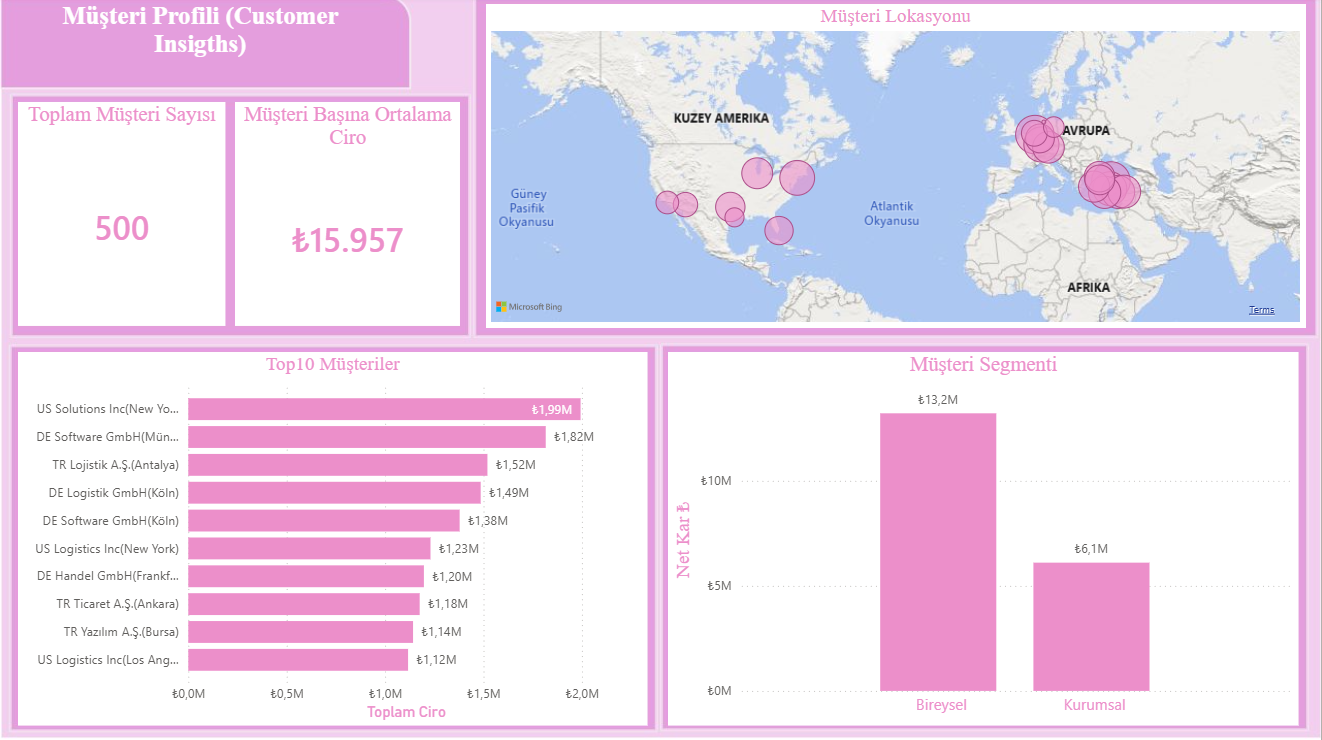

Layout of this report page (visuals, bound fields, positions):
{"tool":"powerbi","page":{"name":"Müşteri Profili (Customer Insights)","canvas":[1280,720],"ordinal":2},"visuals":[{"type":"textbox","box":[8.5,0,370.6,85.1],"z":0},{"type":"cardVisual","title":"Toplam Müşteri Sayısı","fields":{"Data":["Count(vW_Dashboard_Base.CustomerID)"]},"box":[17,102.1,201.4,217.4],"z":1000},{"type":"cardVisual","title":"Müşteri Başına Ortalama Ciro","fields":{"Data":["_Ölçüler.MüşteriBaşınaOrtCiro"]},"box":[227.8,102.1,218.4,217.4],"z":2000},{"type":"map","title":"Müşteri Lokasyonu","fields":{"Category":["vW_Dashboard_Base.CustomerCity"],"Size":["Sum(vW_Dashboard_Base.TotalRevenue)"]},"box":[470.8,6.6,794.1,312.9],"z":3000},{"type":"clusteredBarChart","title":"Top10 Müşteriler","fields":{"Category":["vW_Dashboard_Base.UniqeCustomerName"],"Y":["Sum(vW_Dashboard_Base.TotalRevenue)"]},"box":[17,344.1,609.7,362.1],"z":4000},{"type":"clusteredColumnChart","title":"Müşteri Segmenti","fields":{"Category":["vW_Dashboard_Base.CustomerSegment"],"Y":["Sum(vW_Dashboard_Base.NetProfit)"]},"box":[647.3,344,611.4,362.4],"z":5000}]}

Visuals, with their boxes in screenshot pixels (x1, y1, x2, y2), scaled from the page's 1280x720 canvas onto the 1322x740 screenshot:
textbox: {"x1": 9, "y1": 0, "x2": 392, "y2": 87}
"Toplam Müşteri Sayısı" cardVisual: {"x1": 18, "y1": 105, "x2": 226, "y2": 328}
"Müşteri Başına Ortalama Ciro" cardVisual: {"x1": 235, "y1": 105, "x2": 461, "y2": 328}
"Müşteri Lokasyonu" map: {"x1": 486, "y1": 7, "x2": 1306, "y2": 328}
"Top10 Müşteriler" clusteredBarChart: {"x1": 18, "y1": 354, "x2": 647, "y2": 726}
"Müşteri Segmenti" clusteredColumnChart: {"x1": 669, "y1": 354, "x2": 1300, "y2": 726}
